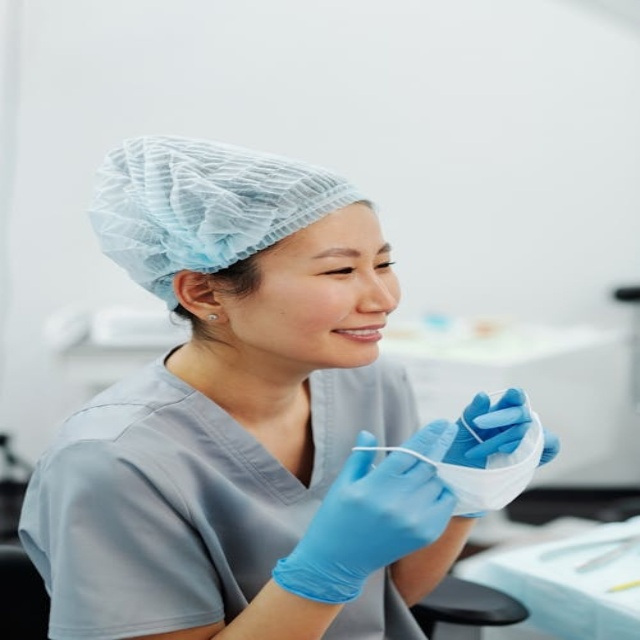Guantes: (255, 416, 461, 606), (439, 383, 568, 468)
Sin_gafas: (292, 239, 398, 285)
Sin_mascara: (306, 319, 390, 356)
